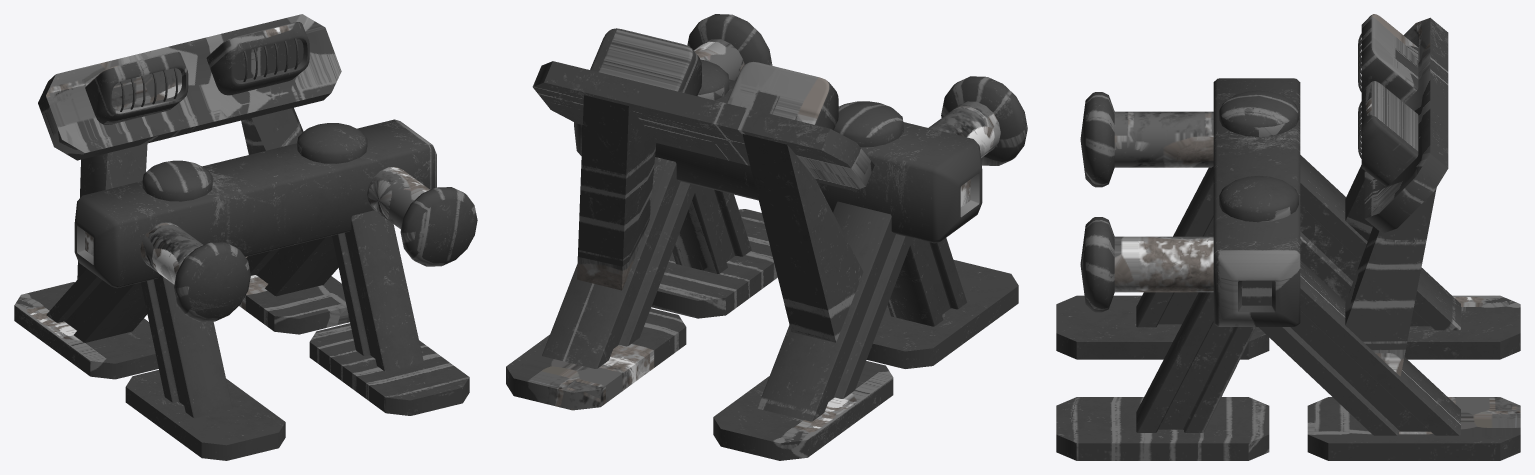
Rendered from SM_Bumper_01.FBX.
3 views of the same model, side by side, from view 1: azimuth 30°, elevation 25°; view 2: azimuth 150°, elevation 25°; view 3: azimuth 270°, elevation 25° (orthographic). The views are drawn at different scales.
Parts seen in each view (by area): view 1: SM_Bumper_01; view 2: SM_Bumper_01; view 3: SM_Bumper_01.
Part boxes in pixels (x1,y1,x2,y2): SM_Bumper_01: (14, 14, 477, 460); SM_Bumper_01: (506, 14, 1027, 460); SM_Bumper_01: (1056, 14, 1520, 460).
Bounding box in the file's own units: 3.57 × 2.85 × 3.73.
